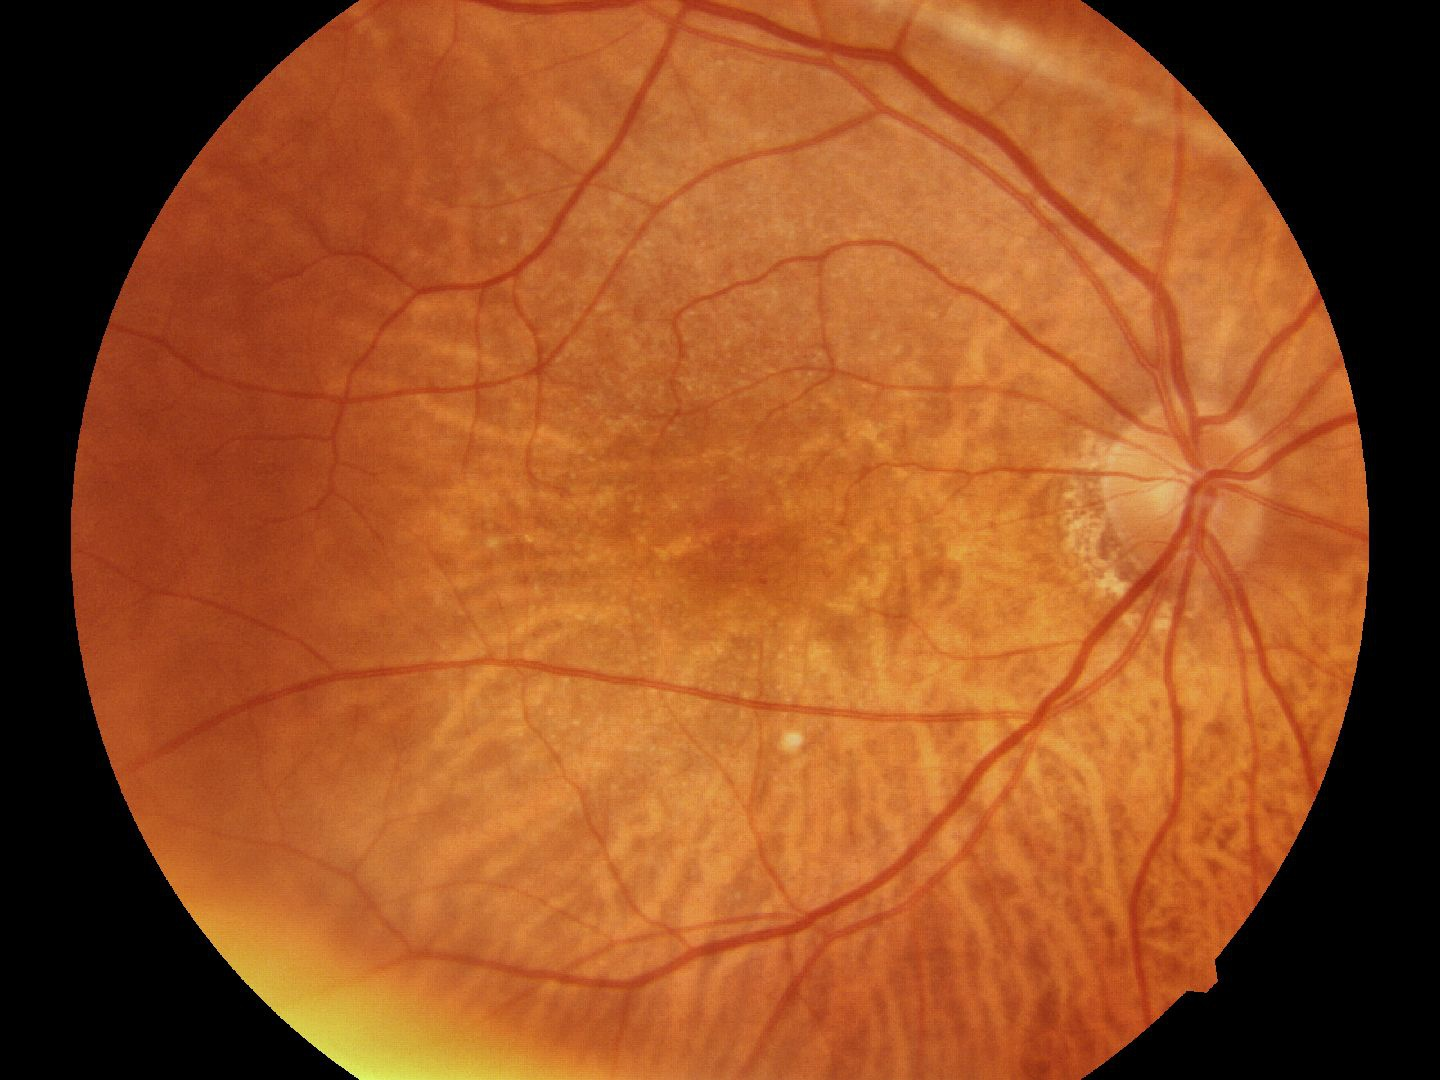Arterioles: (334, 239, 713, 472)
Optic-Disc: (1095, 374, 1281, 611)
Venules: (869, 36, 1118, 275), (737, 745, 990, 960)
